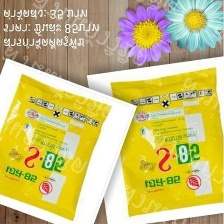insecticide: (0, 53, 140, 224), (83, 54, 223, 224)
